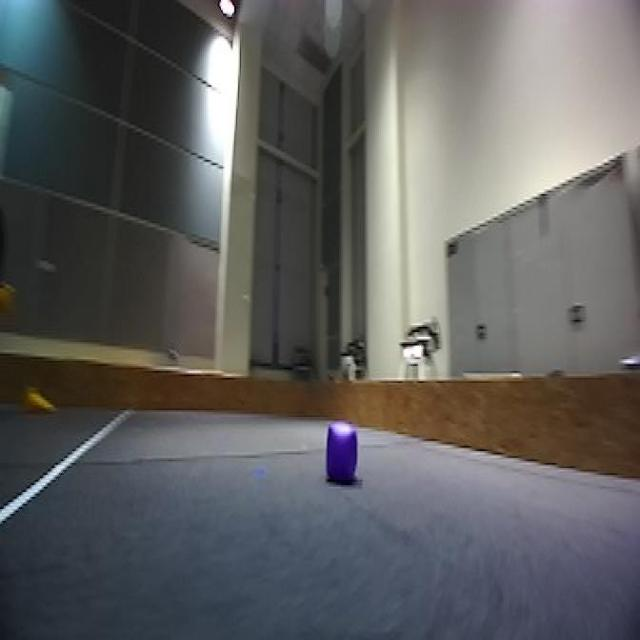frc_cube: (321, 420, 361, 487)
